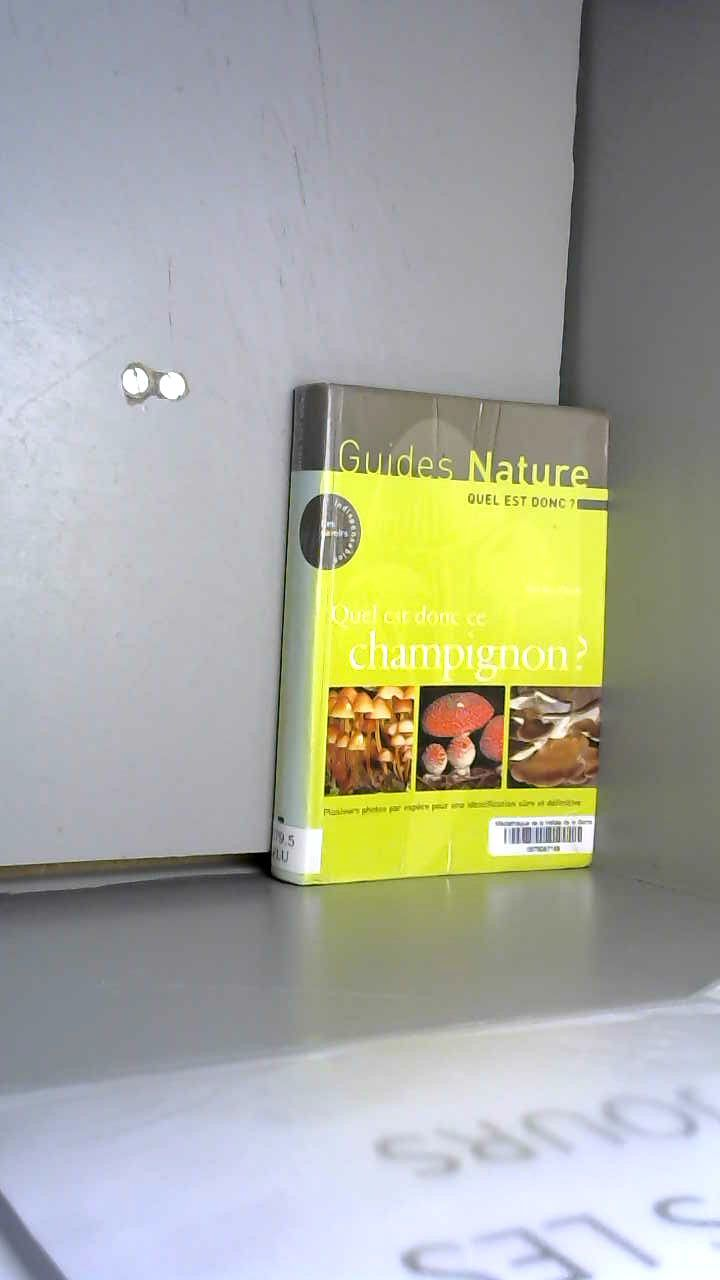book: (250, 330, 720, 900)
